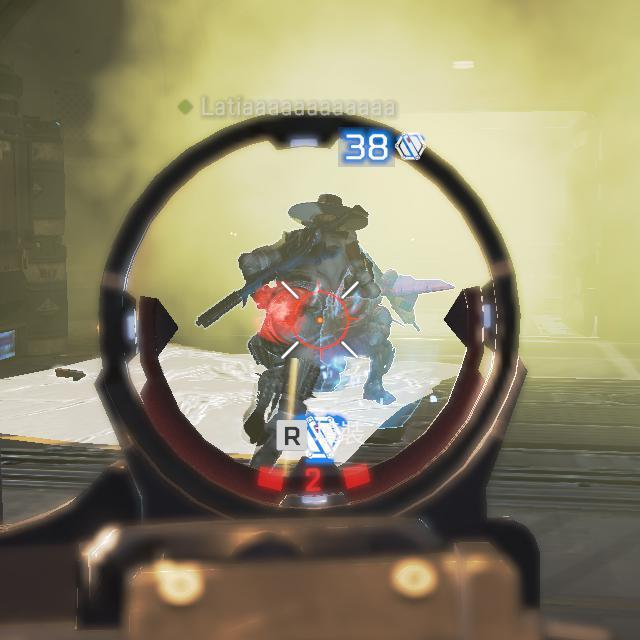avatar: (236, 190, 385, 448)
object: (249, 279, 316, 349)
